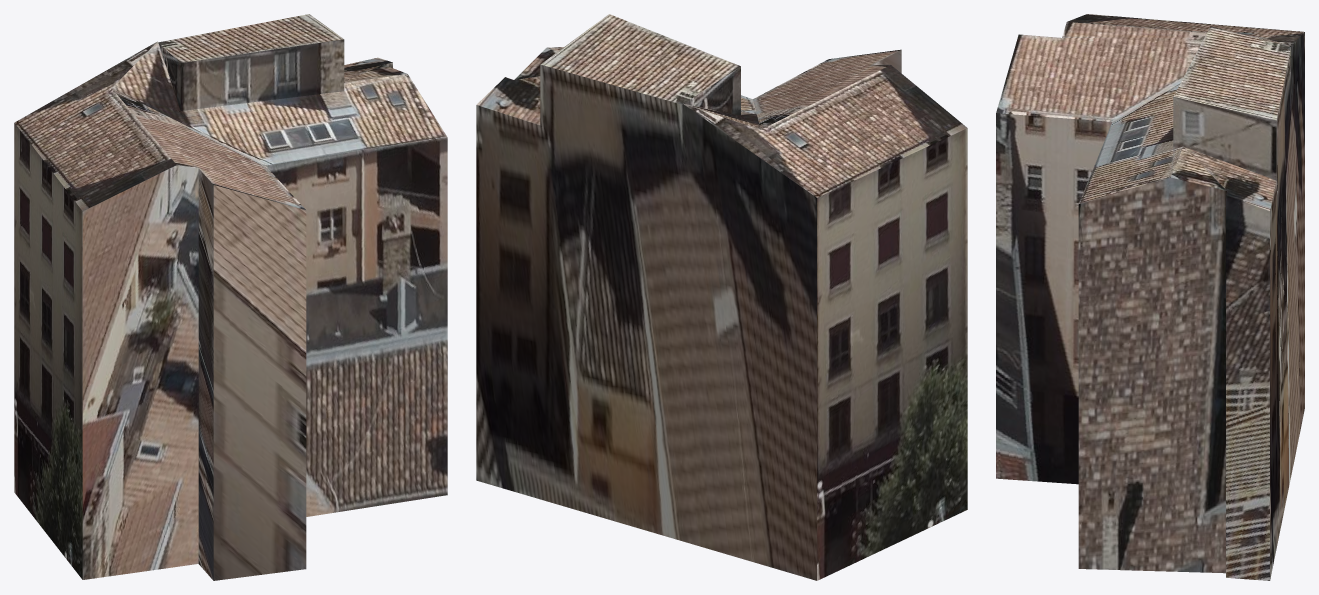
3 views of the same model, side by side, from view 1: azimuth 30°, elevation 25°; view 2: azimuth 150°, elevation 25°; view 3: azimuth 270°, elevation 25° (orthographic). The views are drawn at different scales.
Parts seen in each view (by area): view 1: Z_UP; view 2: Z_UP; view 3: Z_UP.
Part boxes in pixels (x1,y1,x2,y2): Z_UP: (14, 14, 447, 580); Z_UP: (476, 14, 967, 580); Z_UP: (996, 14, 1304, 580).
Size of the model in its own units: 19 by 20.56 by 12.96.
2 materials, 1 textured.
